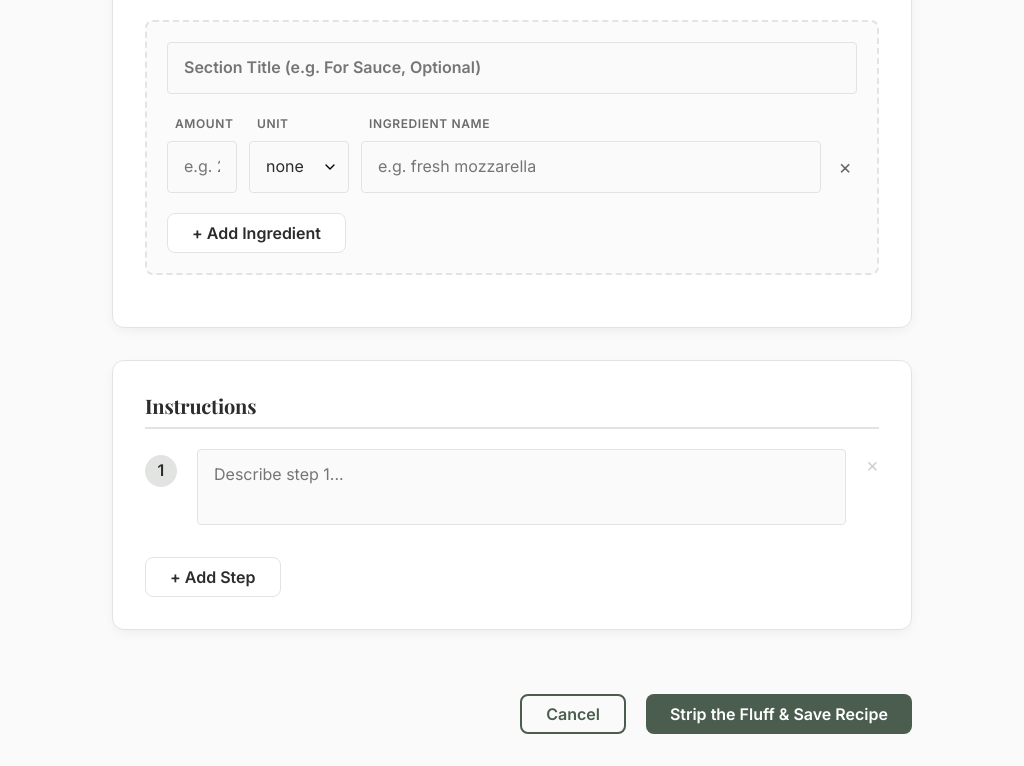
Scenario: ManualRecipeForm Component › manages instruction steps (add/remove)
This screenshot has width=1024, height=766.
(page scrolled)
expect the number of text boxes with placeholder "Describe step 1..." is 1: met, box [197, 449, 846, 525]
// Add step
Click the button "+ Add Step". click: (213, 577)
box: [145, 557, 280, 597]
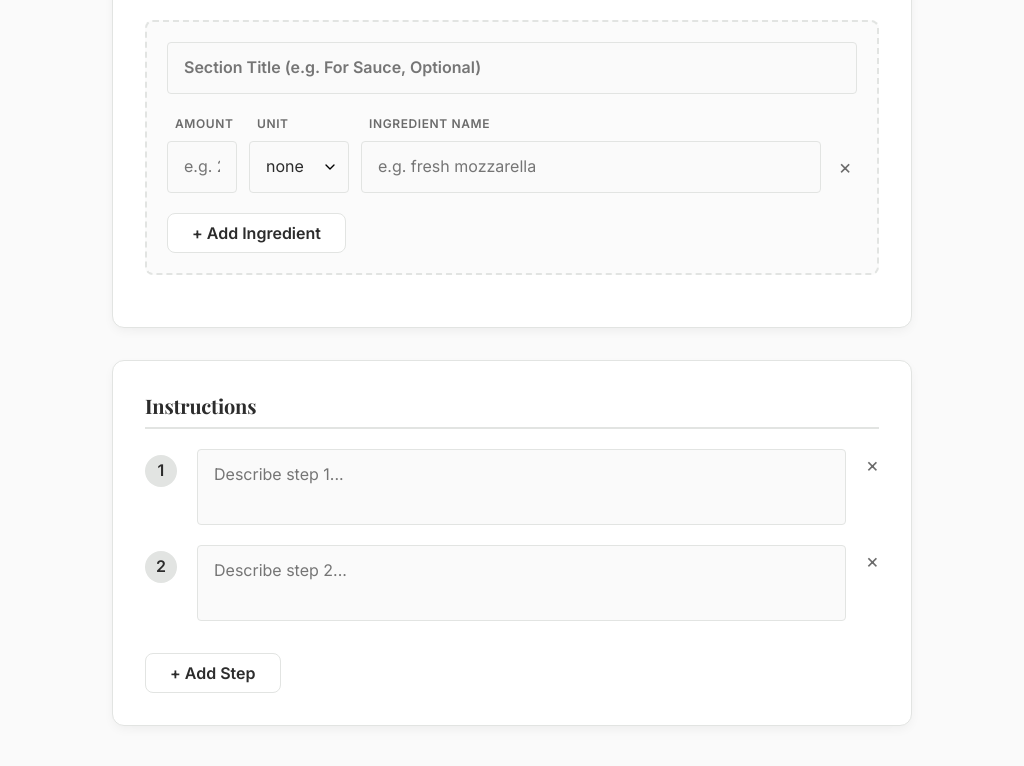
expect the number of text boxes with placeholder "Describe step 1..." is 2: met
// Write text to step 2
Type "Eat it" into the text box with placeholder "Describe step 2...". click: (521, 583)
box: [197, 545, 846, 621]
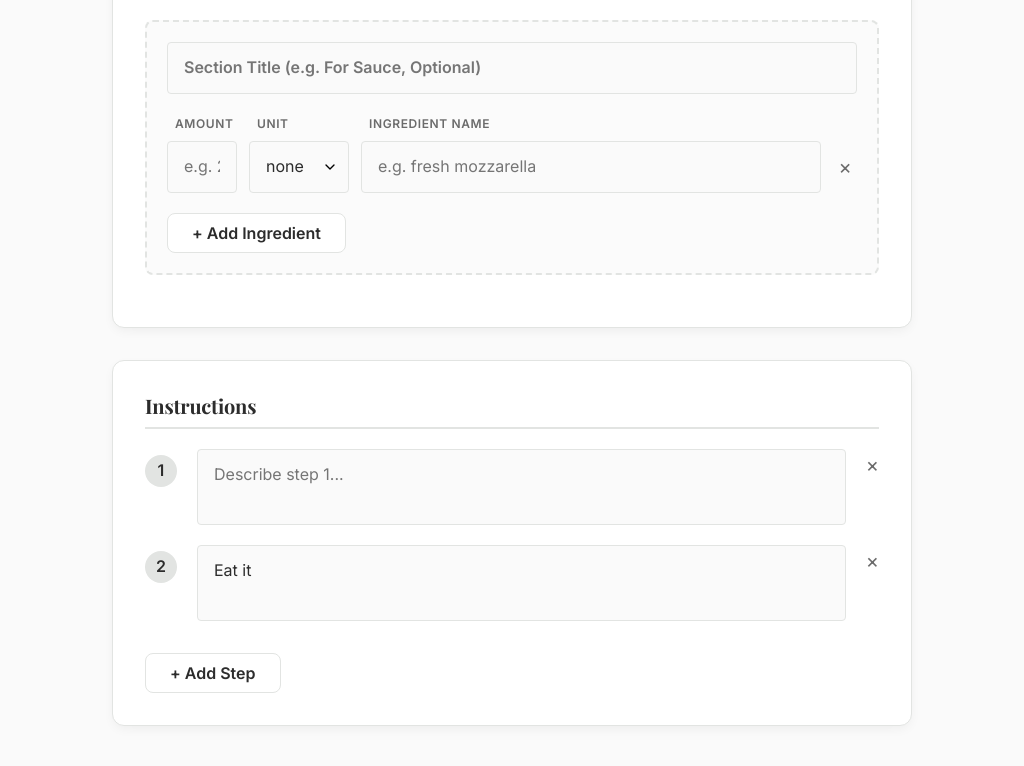
// Remove step 1
Click the 2nd button titled "Remove step". click: (872, 465)
box: [866, 449, 879, 481]
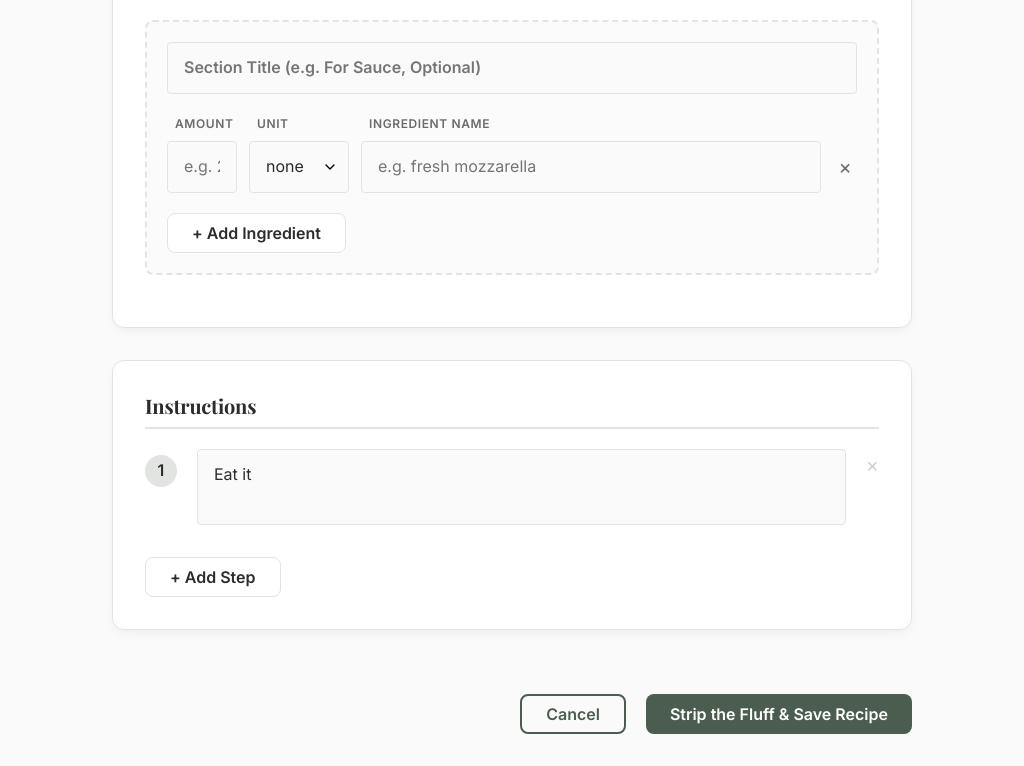
expect the number of text boxes with placeholder "Describe step 1..." is 1: met, box [197, 449, 846, 525]
expect the text box with placeholder "Describe step 1..." holds "Eat it": met, box [197, 449, 846, 525]
